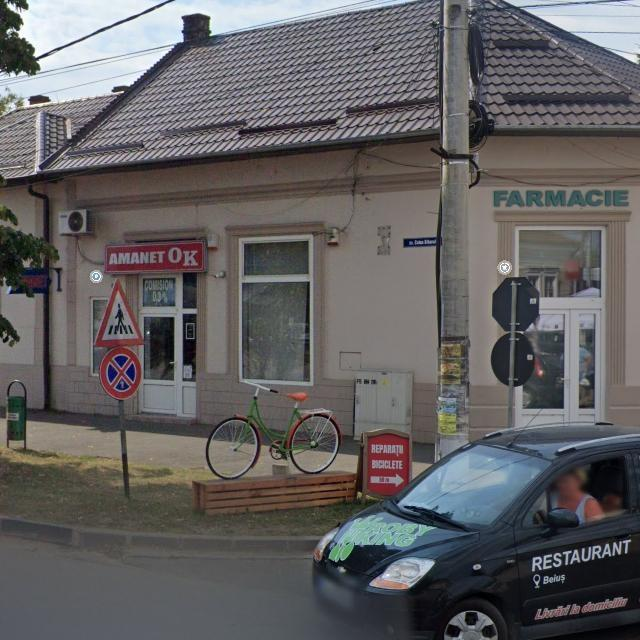forb_waiting: (100, 347, 142, 399)
warn_crosswalk: (94, 277, 145, 347)
